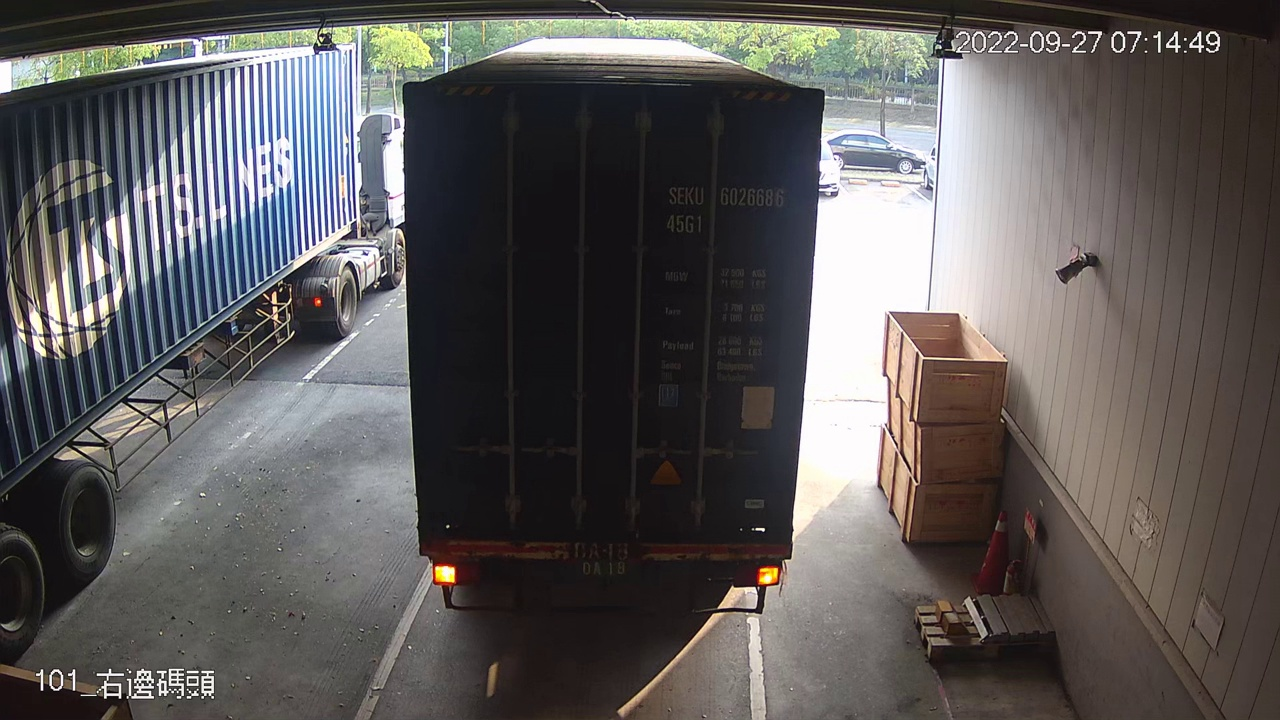container: (661, 178, 793, 239)
